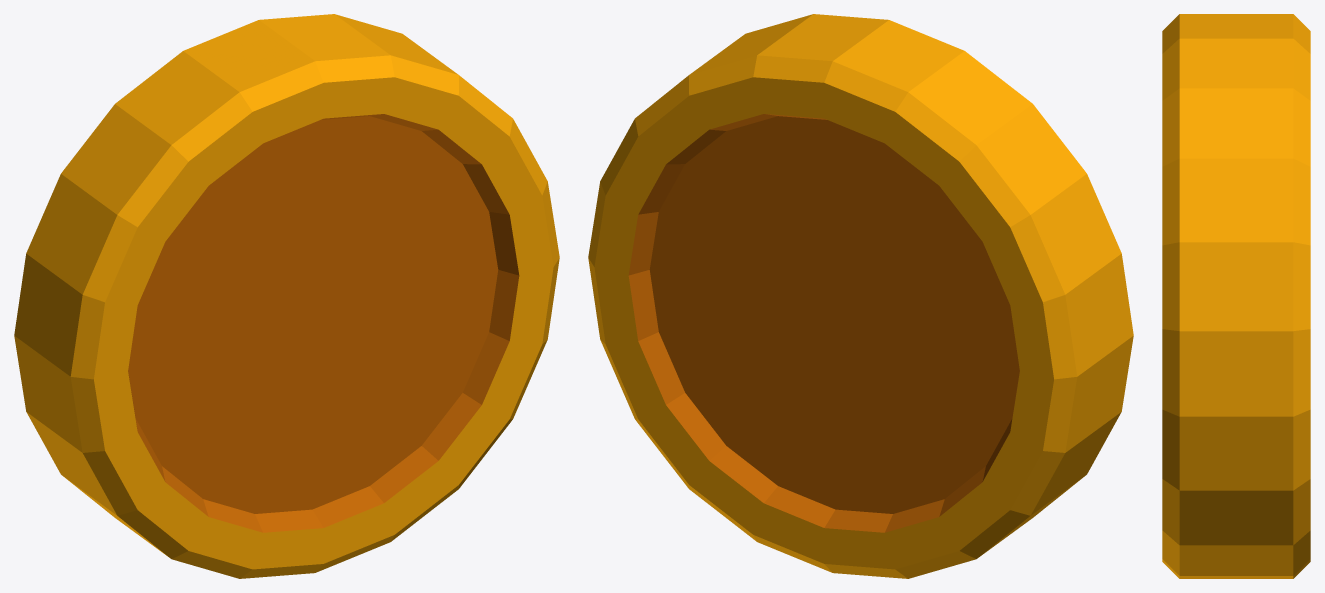
Rendered from Coin.fbx.
3 views of the same model, side by side, from view 1: azimuth 30°, elevation 25°; view 2: azimuth 150°, elevation 25°; view 3: azimuth 270°, elevation 25° (orthographic).
Parts seen in each view (by area): view 1: Coin; view 2: Coin; view 3: Coin.
Part boxes in pixels (x1=…): Coin: x1=14, y1=14, x2=559, y2=578; Coin: x1=588, y1=14, x2=1133, y2=578; Coin: x1=1162, y1=14, x2=1310, y2=578.
Size of the model in its own units: 1 by 0.26 by 1.
